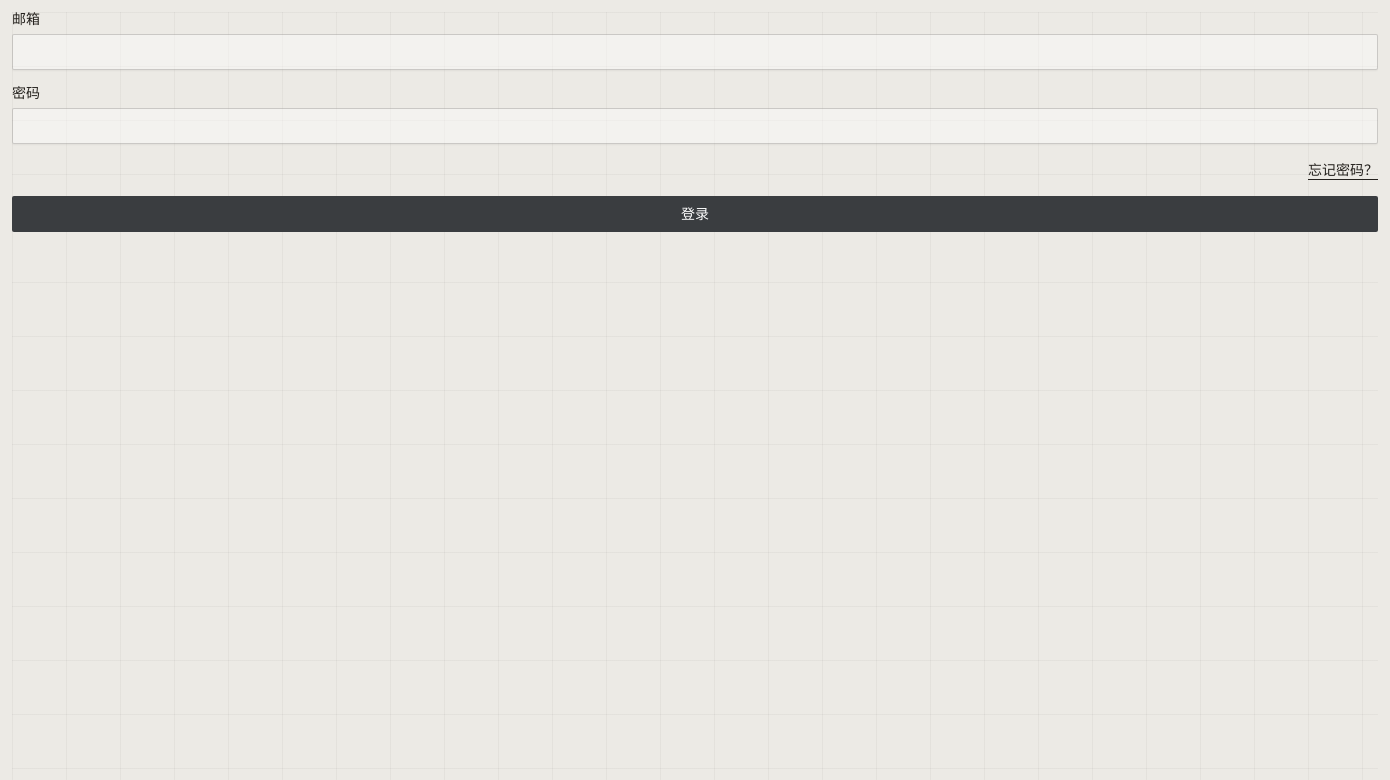
Test: SignInForm › should show the mapped message and stay on the page when credentials are wrong
This screenshot has width=1390, height=780.
Type "a@example.com" into the field labelled "邮箱" at (695, 52), box 12,34 -> 1378,70
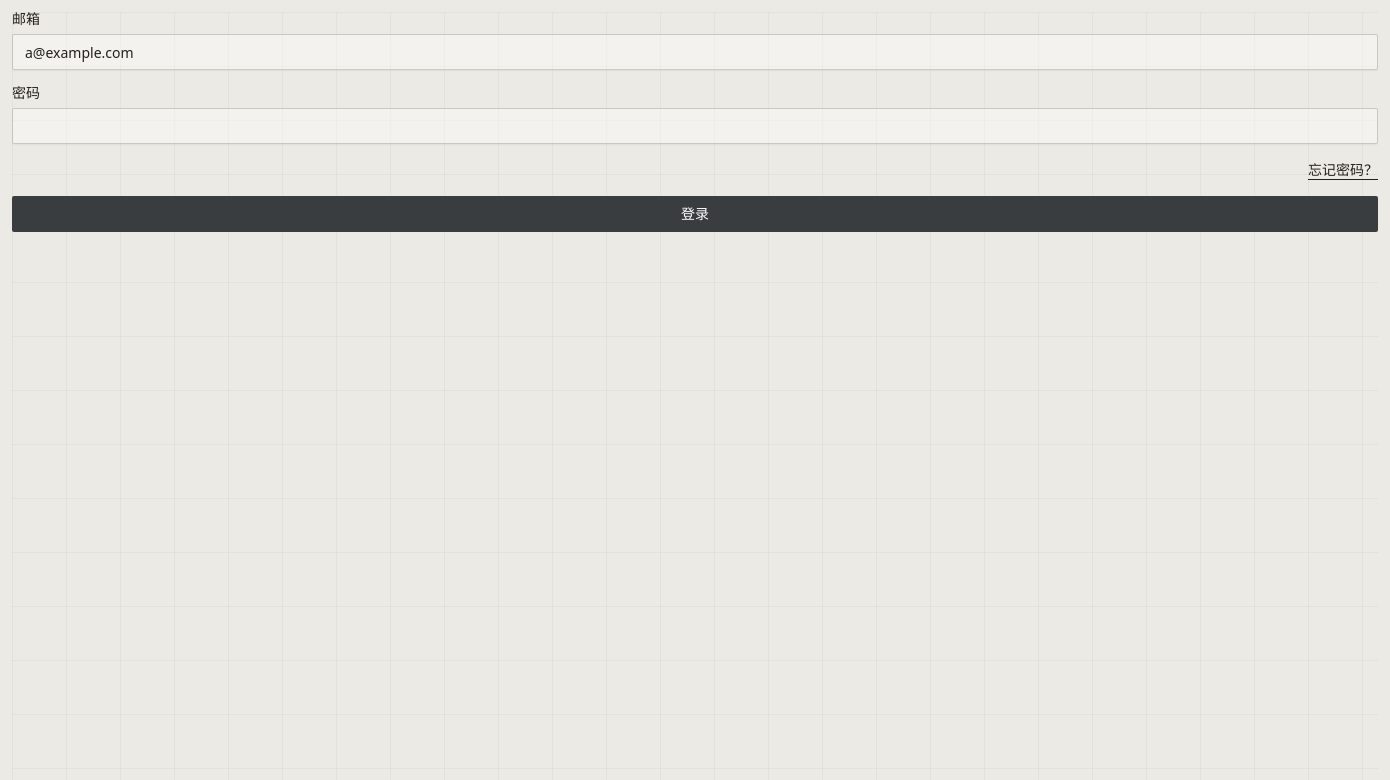
Type "wrong-password" into the password field labelled "密码" at (695, 126), box 12,108 -> 1378,144
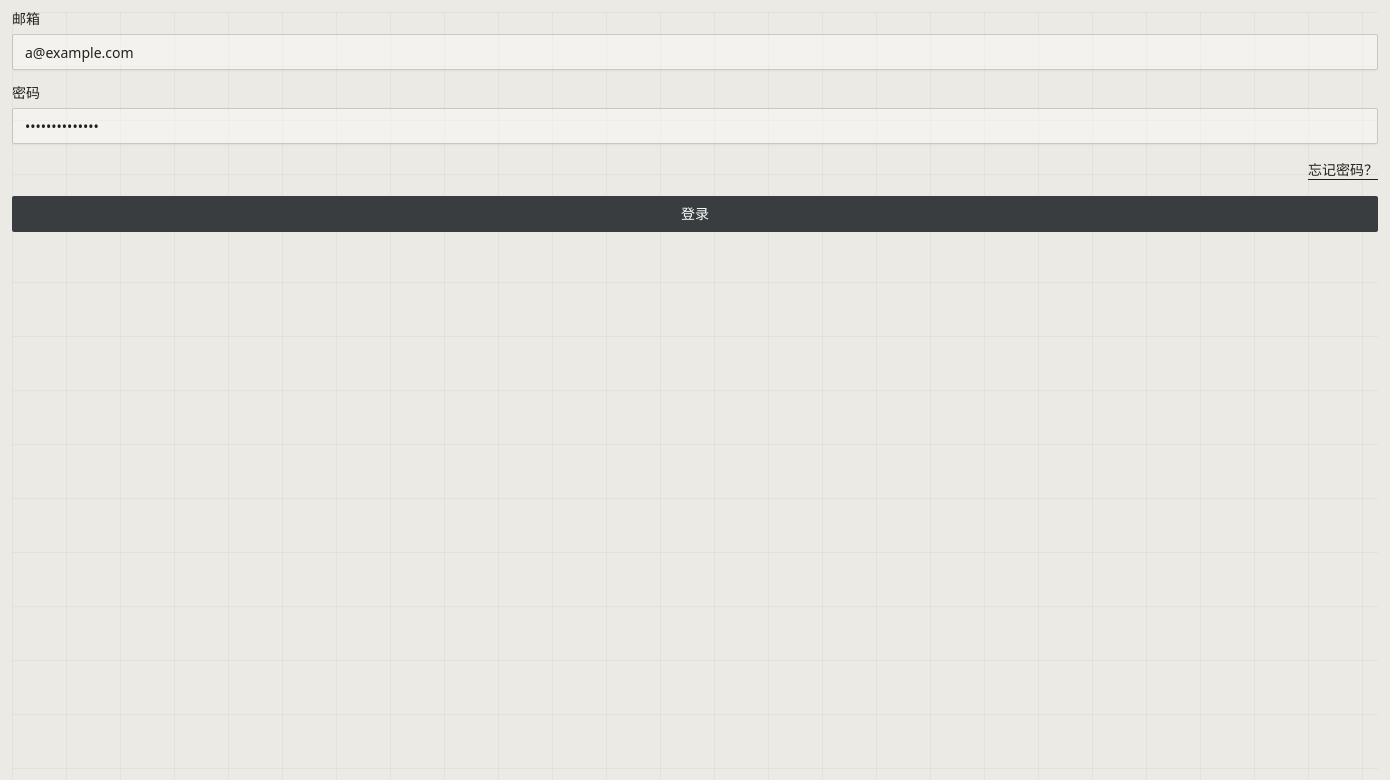
Click the button "登录" at (695, 214), box 12,196 -> 1378,232
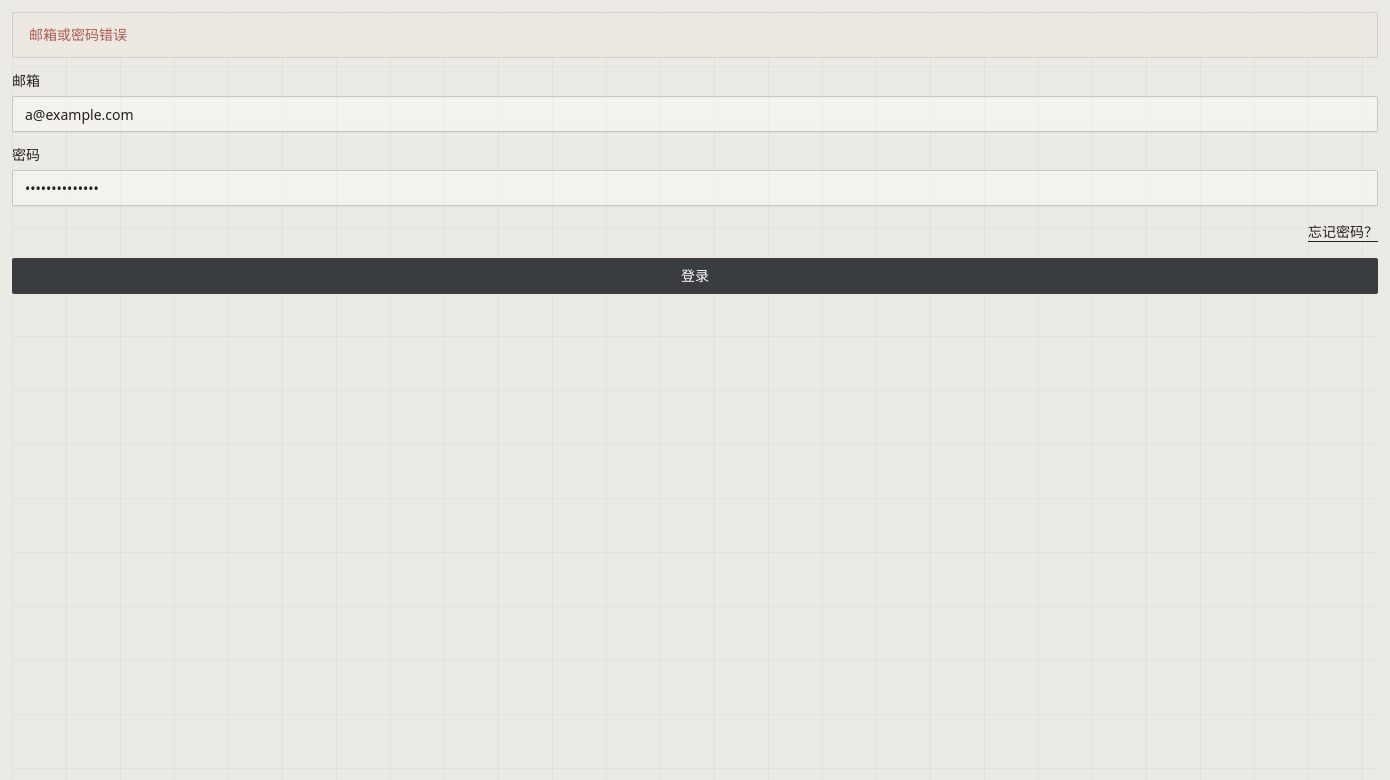
Now the text "邮箱或密码错误" is shown, box 29,25 -> 127,44
